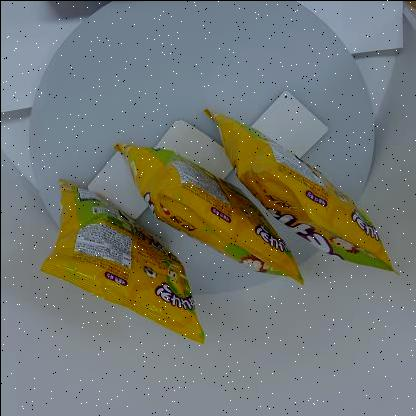Others: (25, 101, 402, 355)
